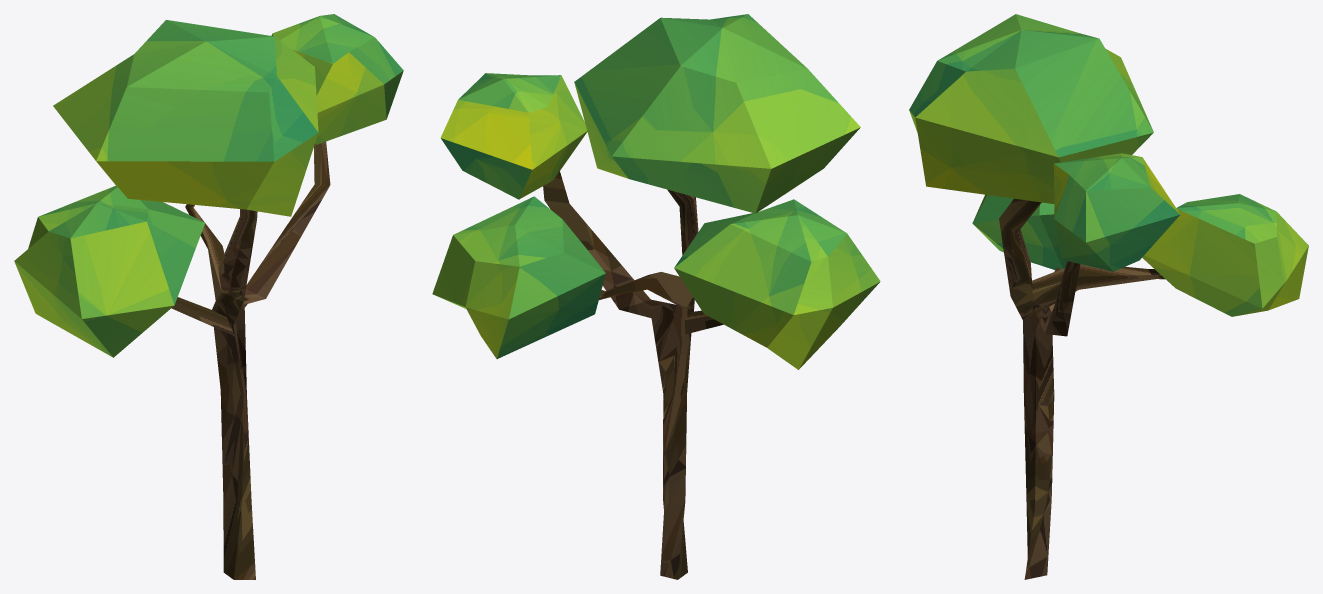
File: Tree2.fbx
3 renders of one model, left to right at view 1: azimuth 30°, elevation 25°; view 2: azimuth 150°, elevation 25°; view 3: azimuth 270°, elevation 25°, orthographic. The views are drawn at different scales.
Parts seen in each view (by area): view 1: polySurface1; view 2: polySurface1; view 3: polySurface1.
Boxes of the visible parts, left/top/right/bottom form: polySurface1: left=14, top=14, right=403, bottom=579; polySurface1: left=432, top=14, right=880, bottom=579; polySurface1: left=909, top=14, right=1308, bottom=579.
Size of the model in its own units: 2173 by 2997 by 2065.
2 materials, 2 textured.
